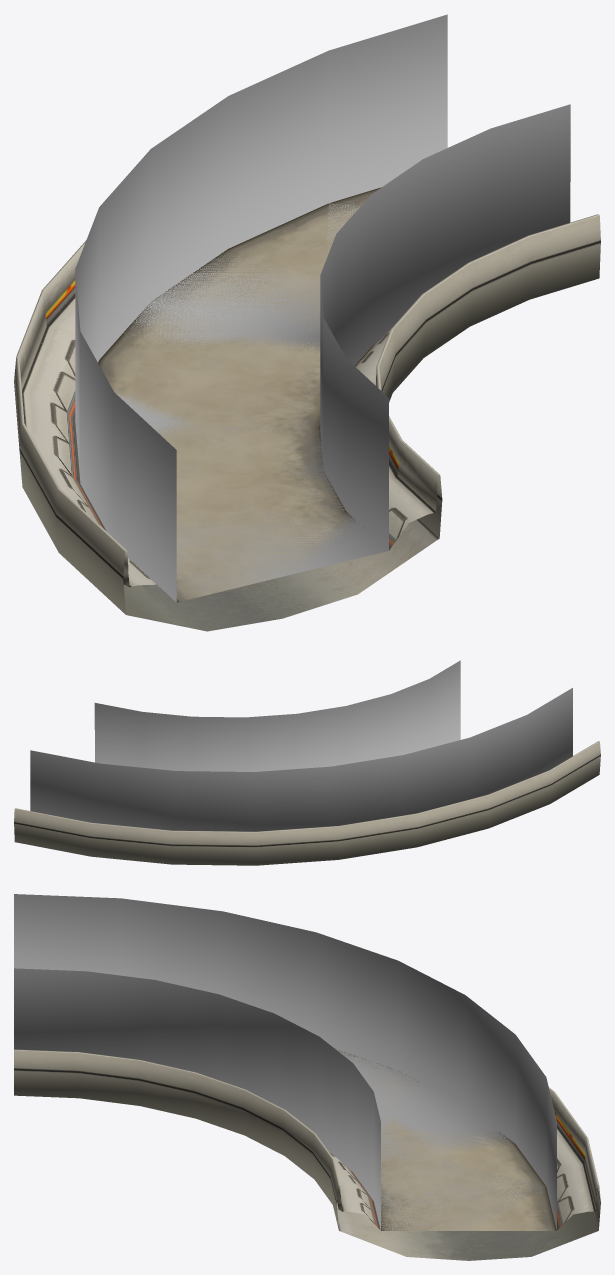
File: road_turn_medium.fbx
3 renders of one model, top to bottom at view 1: azimuth 30°, elevation 25°; view 2: azimuth 150°, elevation 25°; view 3: azimuth 270°, elevation 25°, orthographic. The views are drawn at different scales.
Visible parts, largest first — view 1: colider_turn_medium, road_turn_medium; view 2: colider_turn_medium, road_turn_medium; view 3: colider_turn_medium, road_turn_medium.
Boxes of the visible parts, x1=… form: colider_turn_medium: x1=75, y1=14, x2=570, y2=602; road_turn_medium: x1=14, y1=187, x2=600, y2=631; colider_turn_medium: x1=30, y1=660, x2=572, y2=831; road_turn_medium: x1=14, y1=741, x2=600, y2=865; colider_turn_medium: x1=14, y1=894, x2=556, y2=1230; road_turn_medium: x1=14, y1=1048, x2=600, y2=1260.
Size of the model in its own units: 52.94 by 14.01 by 53.36.
Materials: 4 (3 with a texture image).
